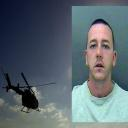helicopter: (1, 69, 58, 116)
